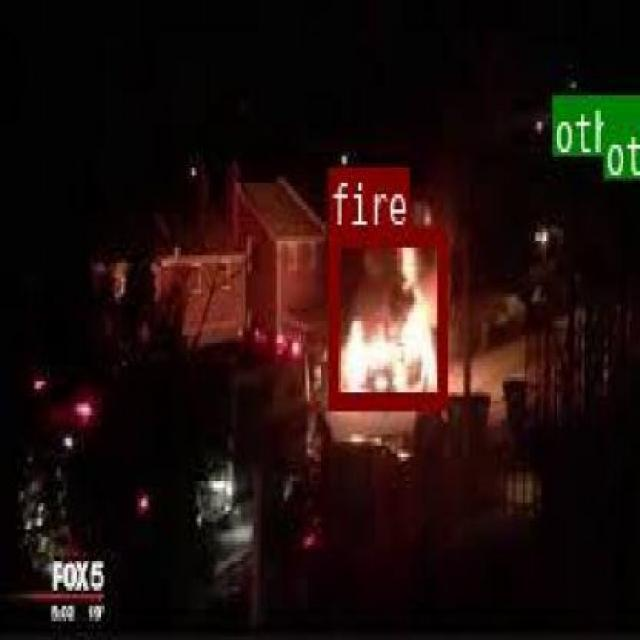Fire: (327, 228, 445, 404)
Smoke: (602, 114, 618, 148)
